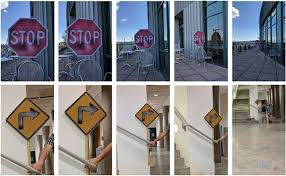stop sign: (6, 18, 46, 56), (65, 19, 102, 56), (135, 29, 155, 49), (192, 31, 204, 45)
